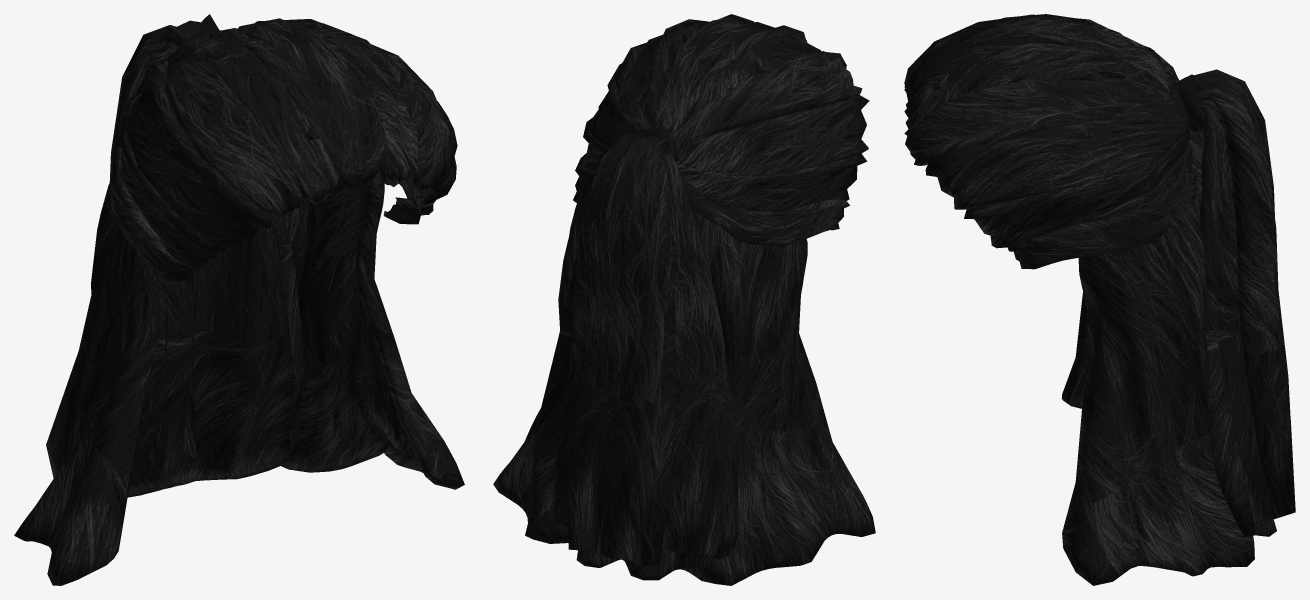
File: 231027_G_Hair_03_WebBuilderTest.glb
3 views of the same model, side by side, from view 1: azimuth 30°, elevation 25°; view 2: azimuth 150°, elevation 25°; view 3: azimuth 270°, elevation 25° (orthographic). The views are drawn at different scales.
Visible parts, largest first — view 1: G_Hair_03; view 2: G_Hair_03; view 3: G_Hair_03.
Boxes of the visible parts, x1,y1,x2,y2 form: G_Hair_03: [14, 14, 464, 585]; G_Hair_03: [493, 14, 875, 585]; G_Hair_03: [904, 14, 1295, 585].
Bounding box in the file's own units: 0.2644 × 0.3334 × 0.2421.
Materials: 1 (1 with a texture image).
